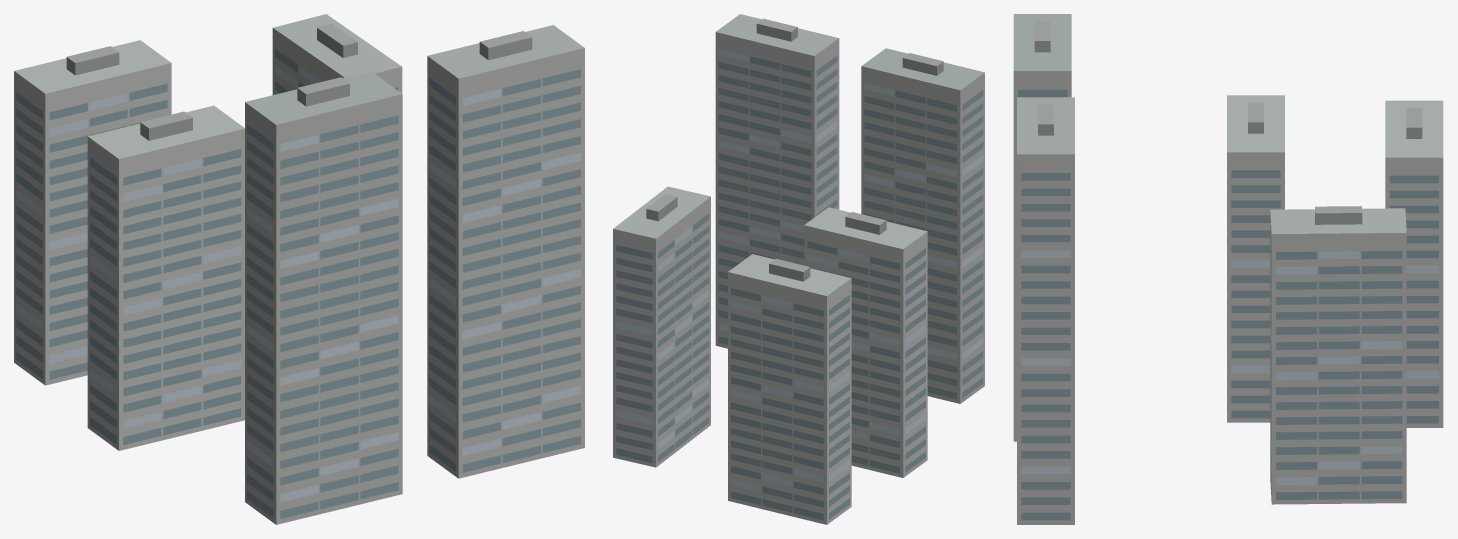
Rendered from apt-a10022430.glb.
3 views of the same model, side by side, from view 1: azimuth 30°, elevation 25°; view 2: azimuth 150°, elevation 25°; view 3: azimuth 270°, elevation 25° (orthographic). The views are drawn at different scales.
Parts seen in each view (by area): view 1: apt-a10022430; view 2: apt-a10022430; view 3: apt-a10022430.
Boxes of the visible parts, x1,y1,x2,y2 form: apt-a10022430: [14, 14, 584, 524]; apt-a10022430: [613, 14, 984, 524]; apt-a10022430: [1013, 14, 1443, 524].
Size of the model in its own units: 71.65 by 80 by 81.6.
